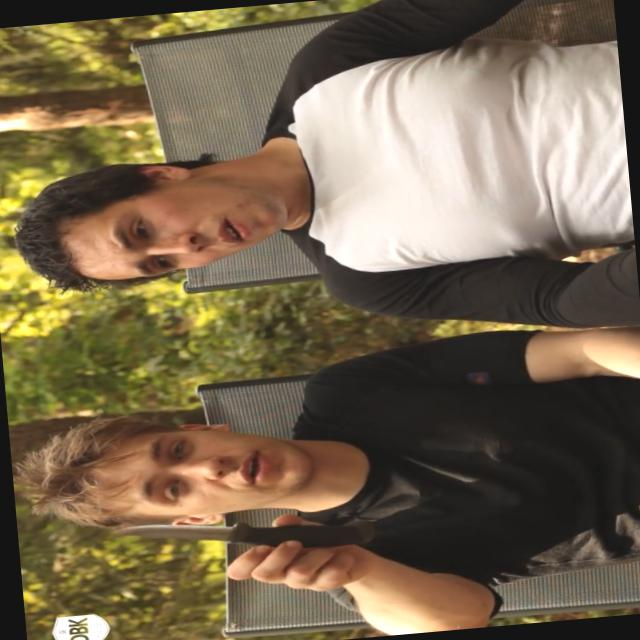knife: (95, 496, 364, 578)
